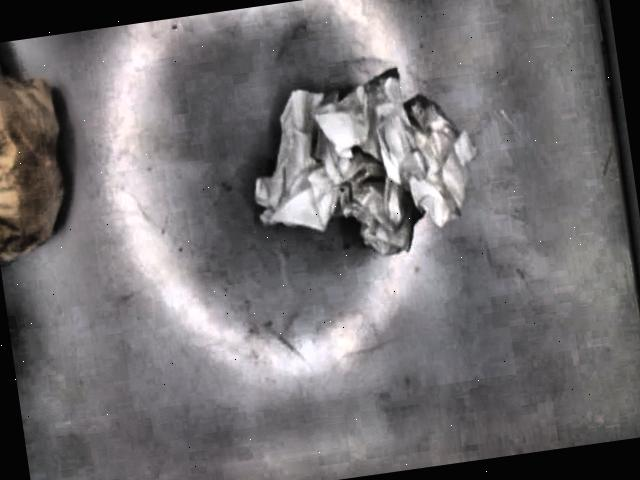Paper: (256, 62, 480, 260), (0, 67, 66, 261)
